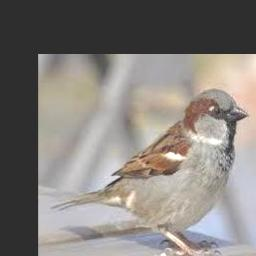Sparrow: (52, 88, 250, 256)
